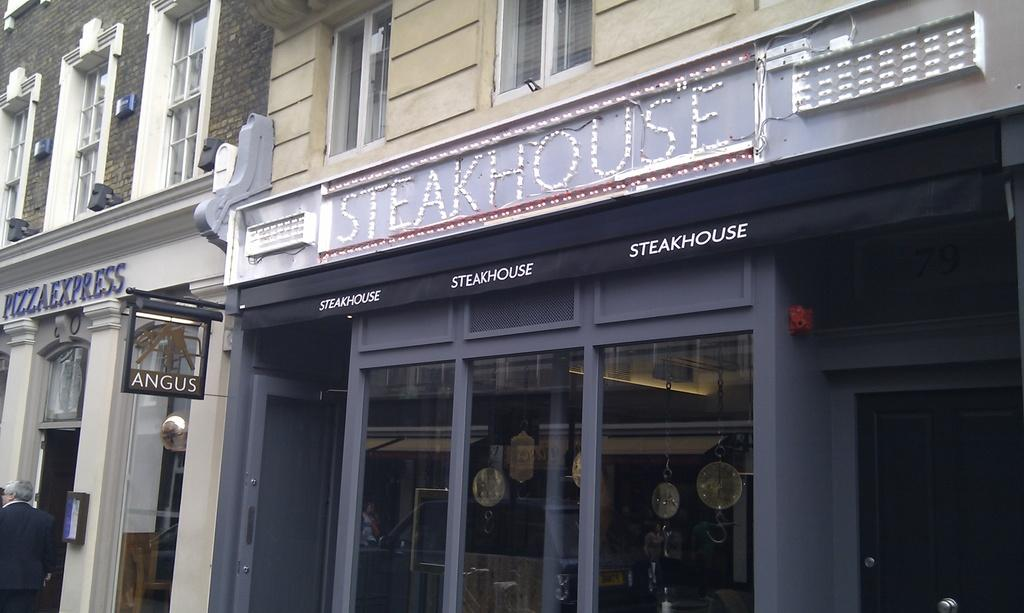handle: (924, 589, 958, 613)
